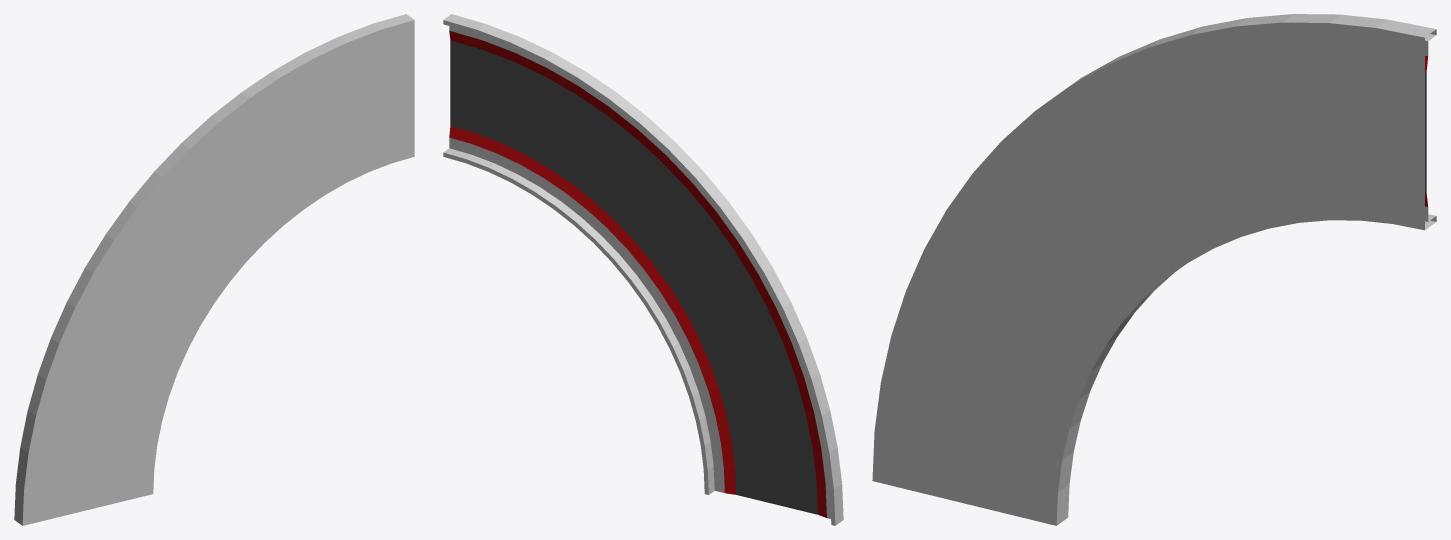
The model's file is Curve_Flat.fbx.
3 renders of one model, left to right at view 1: azimuth 30°, elevation 25°; view 2: azimuth 150°, elevation 25°; view 3: azimuth 330°, elevation 25°, orthographic. The views are drawn at different scales.
Parts seen in each view (by area): view 1: Curve_Flat; view 2: Curve_Flat; view 3: Curve_Flat.
Part boxes in pixels (x1,y1,x2,y2): Curve_Flat: (14, 14, 414, 525); Curve_Flat: (443, 14, 843, 525); Curve_Flat: (872, 14, 1436, 525).
Size of the model in its own units: 3840 by 3840 by 140.
